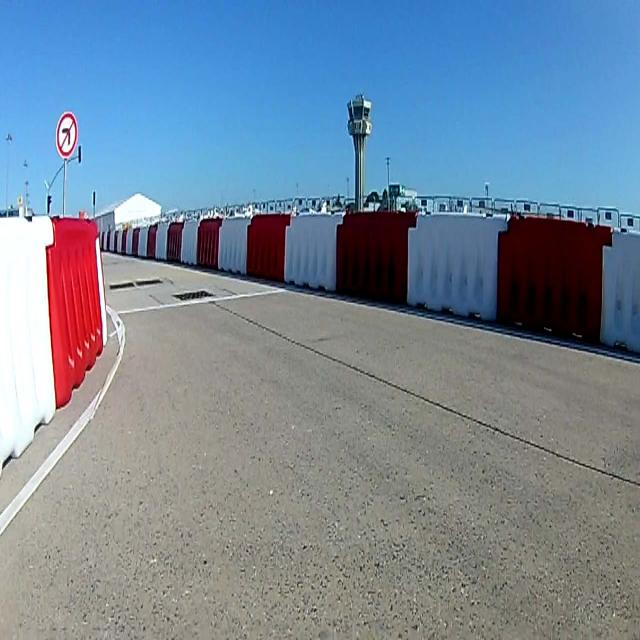soladonulmez: (55, 114, 78, 156)
